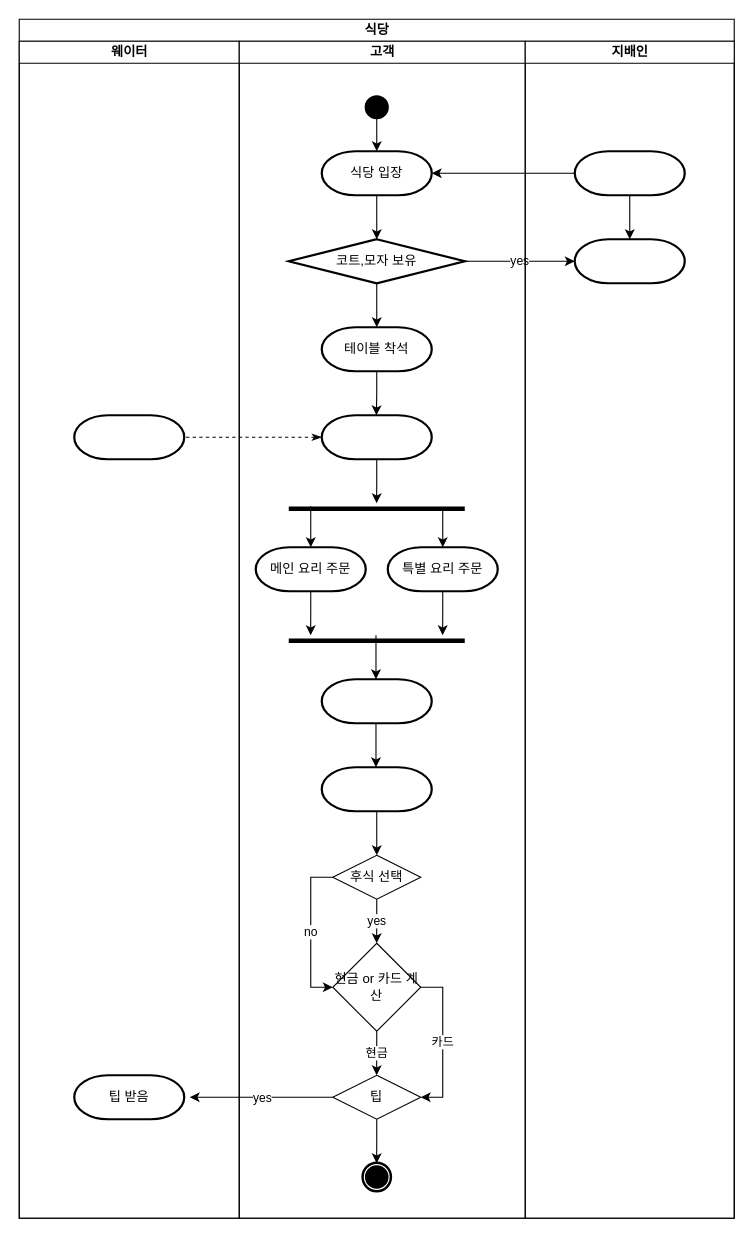
Some shapes in this 754 by 1238 pixel diagram are drawn without their labels. The centre of each missing label's shape, as x and y in pixels:
"메인 요리 식사" belongs at [376,789].
"손님 안내" belongs at [629,173].
"음식 주문" belongs at [376,437].
"음식 추천" belongs at [129,437].
"전체 요리 식사" belongs at [376,701].
"코트, 모자 보관" belongs at [629,261].
